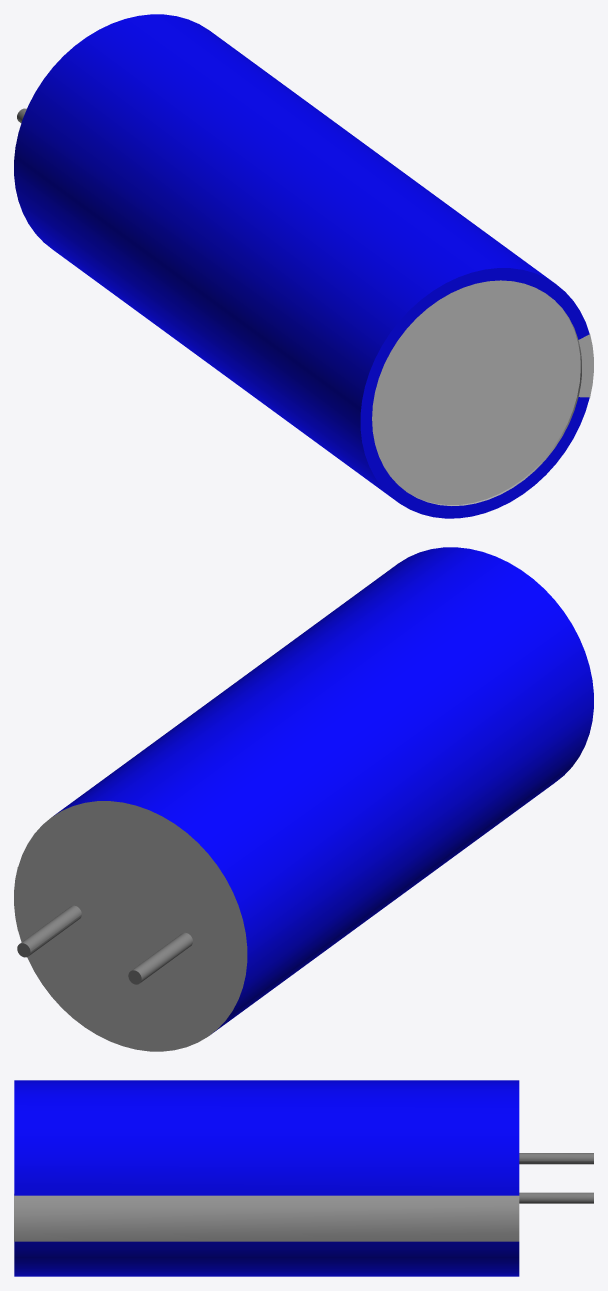
3 renders of one model, top to bottom at view 1: azimuth 30°, elevation 25°; view 2: azimuth 150°, elevation 25°; view 3: azimuth 270°, elevation 25°, orthographic. The views are drawn at different scales.
Parts seen in each view (by area): view 1: BXW_1000x2500; view 2: BXW_1000x2500; view 3: BXW_1000x2500.
Part boxes in pixels (x1,y1,x2,y2): BXW_1000x2500: [14, 14, 593, 518]; BXW_1000x2500: [14, 547, 593, 1051]; BXW_1000x2500: [14, 1080, 593, 1276].
Size of the model in its own units: 10.49 by 10.49 by 31.01.
